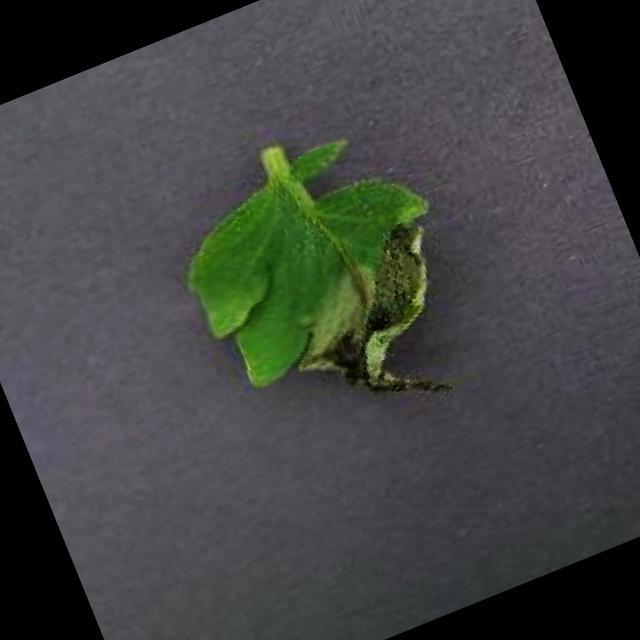Tomato late blight leaf: (156, 112, 501, 470)
